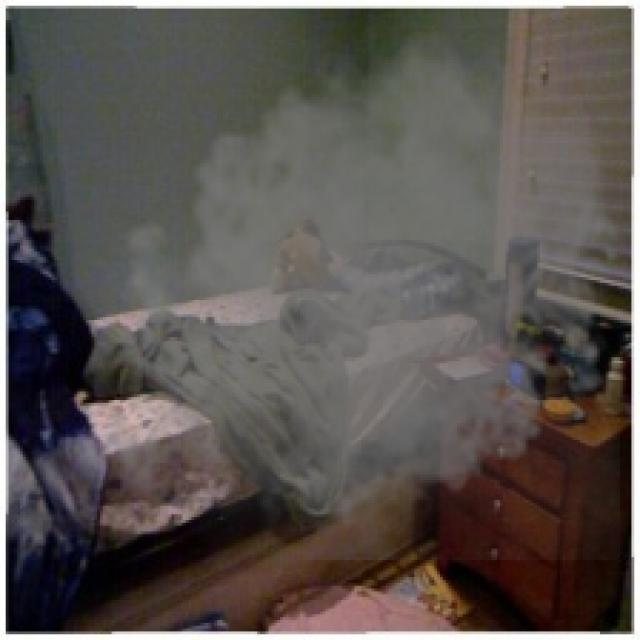Smoke: (89, 8, 632, 560)
